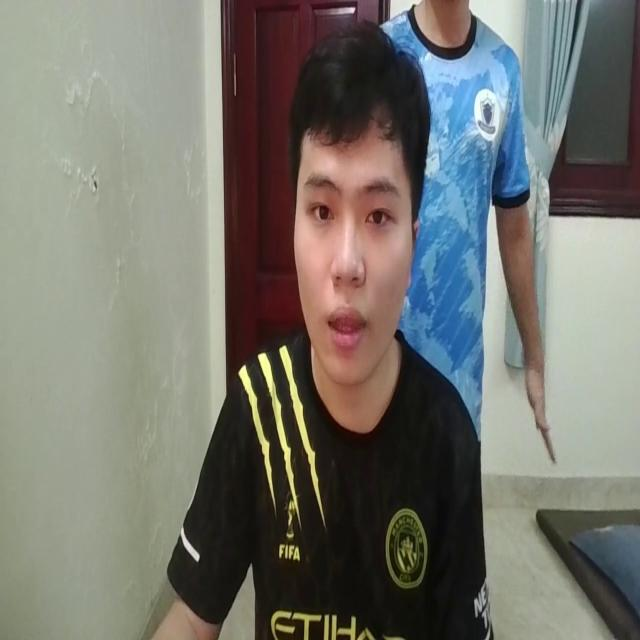extra_person: (381, 0, 555, 461)
student: (161, 19, 497, 640)
